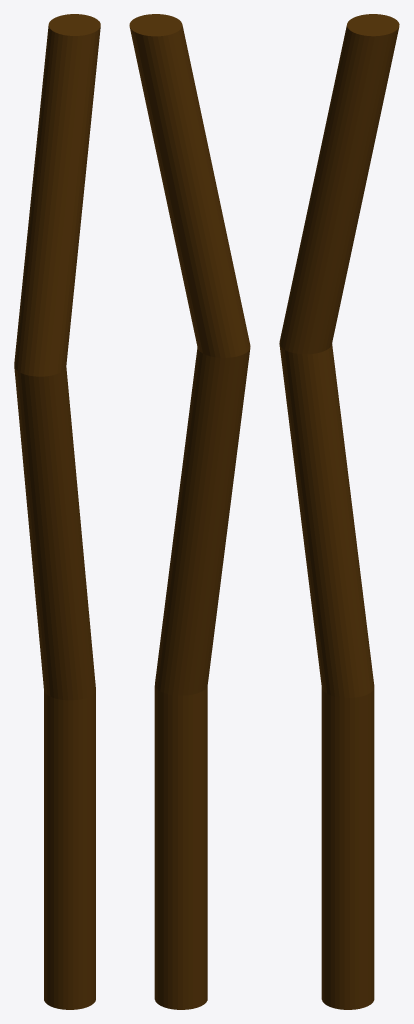
Rendered from stick.fbx.
3 renders of one model, left to right at view 1: azimuth 30°, elevation 25°; view 2: azimuth 150°, elevation 25°; view 3: azimuth 330°, elevation 25°, orthographic.
Parts seen in each view (by area): view 1: Cylinder; view 2: Cylinder; view 3: Cylinder.
Part boxes in pixels (left/top/right/bottom): Cylinder: left=14, top=14, right=100, bottom=1009; Cylinder: left=129, top=14, right=250, bottom=1009; Cylinder: left=279, top=14, right=399, bottom=1009.
Size of the model in its own units: 66.75 by 639 by 51.07.
